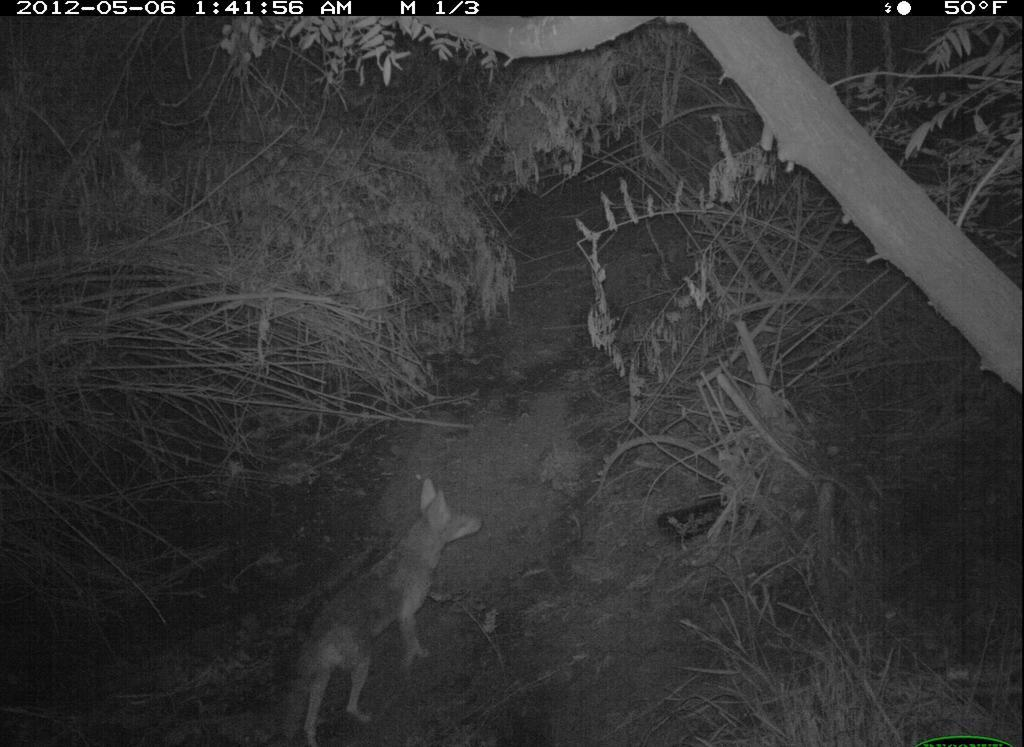coyote: (233, 454, 505, 747)
